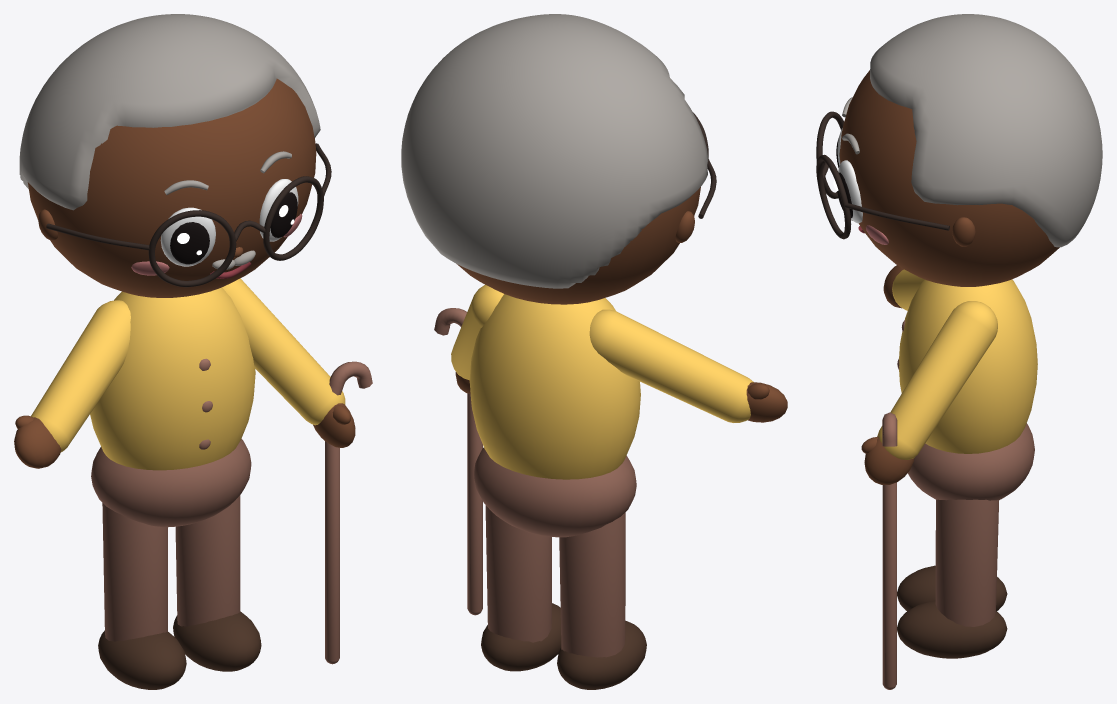
File: grandfather.glb
The picture shows the model from 3 angles, left to right: view 1: azimuth 30°, elevation 25°; view 2: azimuth 150°, elevation 25°; view 3: azimuth 270°, elevation 25°; orthographic projection. The views are drawn at different scales.
Visible parts, largest first — view 1: grandfather; view 2: grandfather; view 3: grandfather.
Part boxes in pixels (x1=…): grandfather: x1=14, y1=14, x2=372, y2=689; grandfather: x1=401, y1=14, x2=787, y2=689; grandfather: x1=816, y1=14, x2=1102, y2=689.
Bounding box in the file's own units: 0.8659 × 1.5 × 0.6433.
